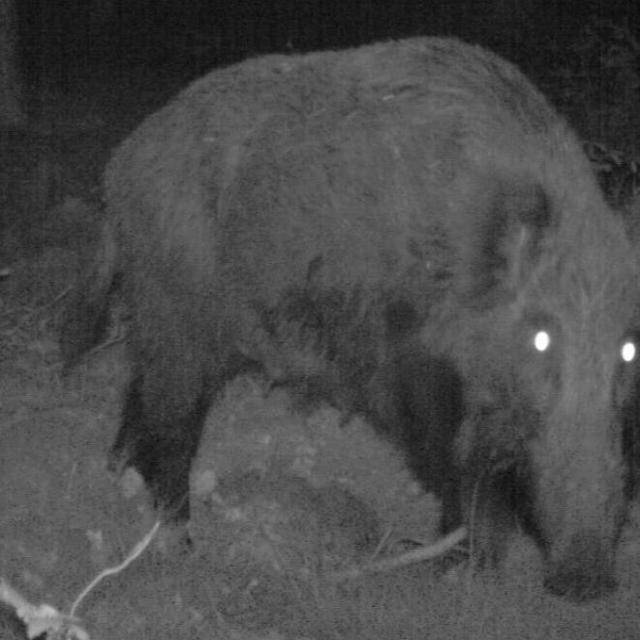pig: (68, 40, 640, 592)
